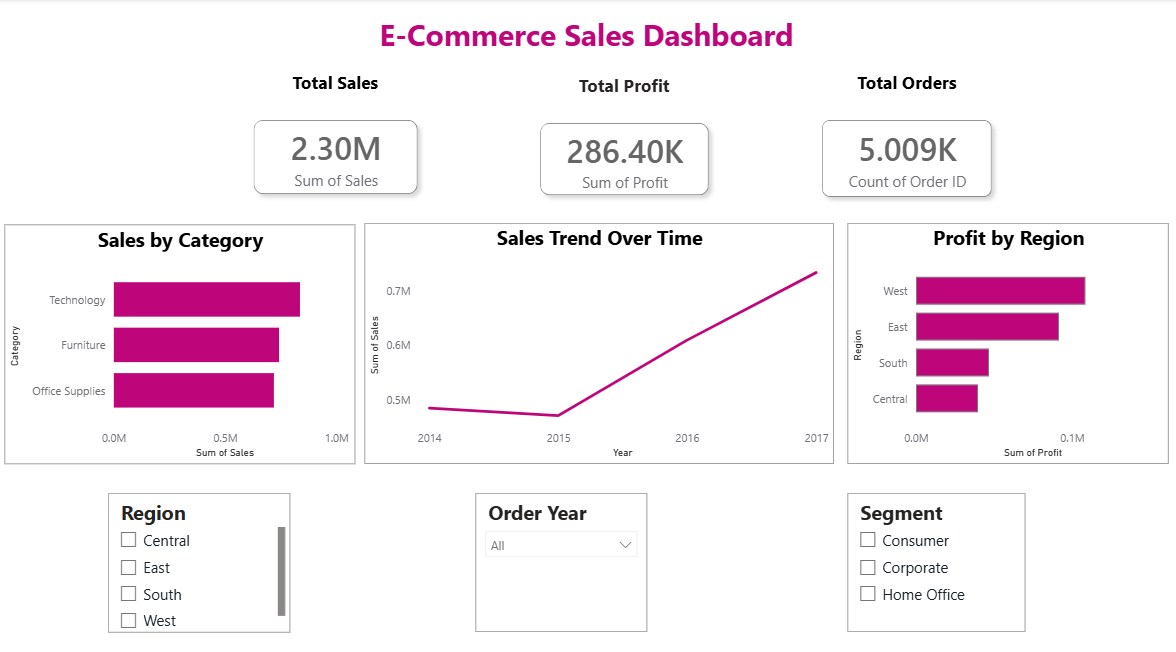

The dashboard page shown, as its layout file describes it:
{"tool":"powerbi","page":{"name":"Page 1","canvas":[1280,720],"ordinal":0},"visuals":[{"type":"cardVisual","title":"Total Sales","fields":{"Data":["Sum(Ecommerce_Analytics_Cleaned.Sales)"]},"box":[251.7,78.3,235,163.3],"z":0},{"type":"cardVisual","title":"Total Profit","fields":{"Data":["Sum(Ecommerce_Analytics_Cleaned.Profit)"]},"box":[560,81.7,240,161.7],"z":1000},{"type":"cardVisual","title":"Total Orders","fields":{"Data":["Count(Ecommerce_Analytics_Cleaned.Order ID)"]},"box":[865,78.3,241.7,166.7],"z":2000},{"type":"clusteredBarChart","title":"Sales by Category","fields":{"Category":["Ecommerce_Analytics_Cleaned.Category"],"Y":["Sum(Ecommerce_Analytics_Cleaned.Sales)"]},"box":[11.7,245,378.3,258.3],"z":3000},{"type":"clusteredBarChart","title":"Profit by Region","fields":{"Category":["Ecommerce_Analytics_Cleaned.Region"],"Y":["Sum(Ecommerce_Analytics_Cleaned.Profit)"]},"box":[921.7,243.3,346.7,260],"z":4000},{"type":"lineChart","title":"Sales Trend Over Time","fields":{"Category":["Ecommerce_Analytics_Cleaned.Order Date.Variation.Date Hierarchy.Year","Ecommerce_Analytics_Cleaned.Order Date.Variation.Date Hierarchy.Quarter","Ecommerce_Analytics_Cleaned.Order Date.Variation.Date Hierarchy.Month","Ecommerce_Analytics_Cleaned.Order Date.Variation.Date Hierarchy.Day"],"Y":["Sum(Ecommerce_Analytics_Cleaned.Sales)"]},"box":[400,243.3,506.7,260],"z":5000},{"type":"slicer","title":"Region","fields":{"Values":["Ecommerce_Analytics_Cleaned.Region"]},"box":[123.8,534.9,196.8,150.8],"z":6000},{"type":"slicer","title":"Segment","fields":{"Values":["Ecommerce_Analytics_Cleaned.Segment"]},"box":[921.7,535,191.7,150],"z":7000},{"type":"slicer","title":"Order Year","fields":{"Values":["Ecommerce_Analytics_Cleaned.Order Year"]},"box":[520,535,185,150],"z":8000},{"type":"textbox","box":[390,11.7,498.3,70],"z":9000}]}

Visuals, with their boxes in screenshot pixels (x1, y1, x2, y2), scaled from the page's 1280x720 canvas onto the 1176x652 screenshot:
"Total Sales" cardVisual: [x1=231, y1=71, x2=447, y2=219]
"Total Profit" cardVisual: [x1=514, y1=74, x2=735, y2=220]
"Total Orders" cardVisual: [x1=795, y1=71, x2=1017, y2=222]
"Sales by Category" clusteredBarChart: [x1=11, y1=222, x2=358, y2=456]
"Profit by Region" clusteredBarChart: [x1=847, y1=220, x2=1165, y2=456]
"Sales Trend Over Time" lineChart: [x1=368, y1=220, x2=833, y2=456]
"Region" slicer: [x1=114, y1=484, x2=295, y2=621]
"Segment" slicer: [x1=847, y1=484, x2=1023, y2=620]
"Order Year" slicer: [x1=478, y1=484, x2=648, y2=620]
textbox: [x1=358, y1=11, x2=816, y2=74]
